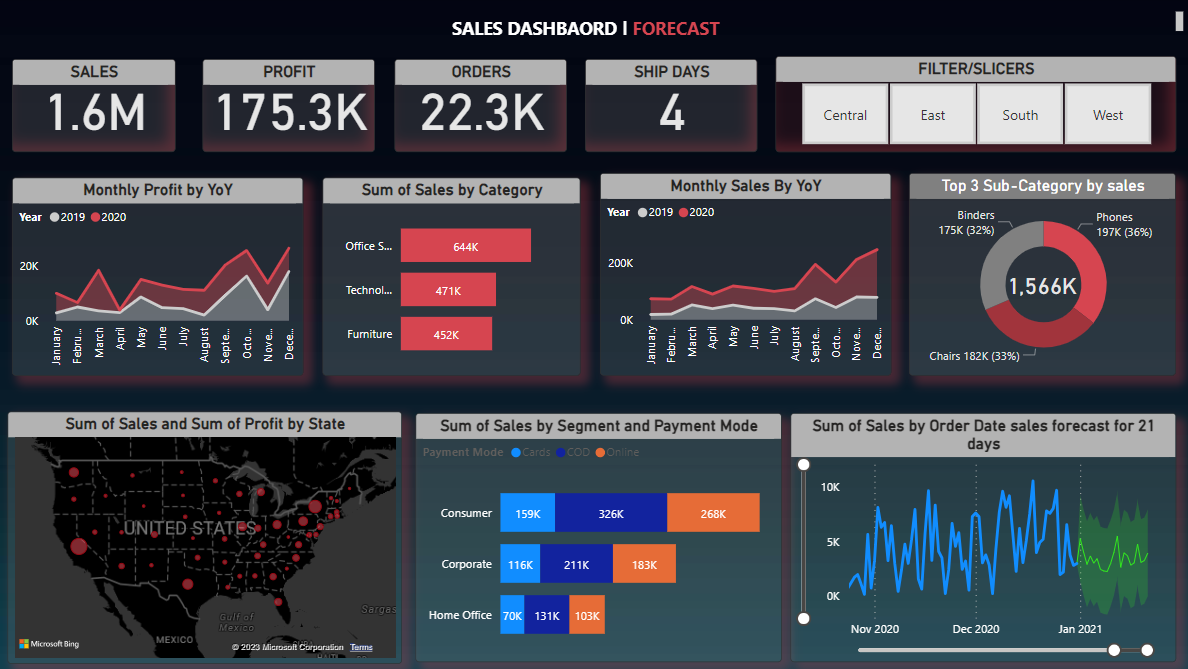

What the dashboard file says about the page in this screenshot:
{"tool":"powerbi","page":{"name":"Sales","canvas":[1280,720],"ordinal":0},"visuals":[{"type":"donutChart","title":"Top 3 Sub-Category by sales","fields":{"Category":["Sheet1.Sub-Category"],"Y":["Sum(Sheet1.Sales)"]},"box":[972.7,187.5,282.9,214.6],"z":0},{"type":"clusteredBarChart","fields":{"Category":["Sheet1.Category"],"Y":["Sum(Sheet1.Sales)"]},"box":[351.3,192.3,273.4,209.8],"z":1000},{"type":"stackedAreaChart","title":"Monthly Sales By YoY","fields":{"Y":["Sum(Sheet1.Sales)"],"Category":["Sheet1.Order Date.Variation.Date Hierarchy.Month","Sheet1.Order Date.Variation.Date Hierarchy.Day"],"Series":["Sheet1.Order Date.Variation.Date Hierarchy.Year"]},"box":[645.3,187.5,308.3,214.6],"z":2000},{"type":"stackedAreaChart","title":"Monthly Profit by YoY","fields":{"Category":["Sheet1.Order Date.Variation.Date Hierarchy.Month","Sheet1.Order Date.Variation.Date Hierarchy.Day"],"Series":["Sheet1.Order Date.Variation.Date Hierarchy.Year"],"Y":["Sum(Sheet1.Profit)"]},"box":[22.3,192.3,308.3,209.8],"z":3000},{"type":"map","fields":{"Category":["Sheet1.State"],"Size":["Sum(Sheet1.Sales)"]},"box":[17.5,440.3,418,267],"z":4000},{"type":"slicer","title":"FILTER/SLICERS","fields":{"Values":["Sheet1.Region"]},"box":[831.3,63.6,424.4,101.7],"z":5000},{"type":"card","title":"SALES","fields":{"Values":["Sum(Sheet1.Sales)"]},"box":[22.3,66.8,173.2,98.5],"z":6000},{"type":"card","title":"ORDERS","fields":{"Values":["Sum(Sheet1.Quantity)"]},"box":[427.5,66.8,182.8,98.5],"z":7000},{"type":"card","title":"PROFIT","fields":{"Values":["Sum(Sheet1.Profit)"]},"box":[224.1,66.8,182.8,98.5],"z":8000},{"type":"card","title":"SHIP DAYS","fields":{"Values":["Avg(Sheet1.AverageDelivery)"]},"box":[629.4,66.8,182.8,98.5],"z":9000},{"type":"textbox","box":[0,11.1,1268.3,35],"z":10000},{"type":"barChart","fields":{"Category":["Sheet1.Segment"],"Y":["Sum(Sheet1.Sales)"],"Series":["Sheet1.Payment Mode"]},"box":[449.8,441.9,387.8,263.8],"z":11000},{"type":"lineChart","title":"Sum of Sales by Order Date sales forecast for 21 days","fields":{"Y":["Sum(Sheet1.Sales)"],"Category":["Sheet1.Order Date"]},"box":[847.2,441.9,408.5,263.8],"z":12000},{"type":"card","fields":{"Values":["Sum(Sheet1.Sales)"]},"box":[1069.7,273.4,87.4,65.2],"z":13000}]}

Visuals, with their boxes in screenshot pixels (x1, y1, x2, y2), scaled from the page's 1280x720 canvas onto the 1188x669 screenshot:
"Top 3 Sub-Category by sales" donutChart: left=903, top=174, right=1165, bottom=374
clusteredBarChart - Sheet1.Category x Sum(Sheet1.Sales): left=326, top=179, right=580, bottom=374
"Monthly Sales By YoY" stackedAreaChart: left=599, top=174, right=885, bottom=374
"Monthly Profit by YoY" stackedAreaChart: left=21, top=179, right=307, bottom=374
map - Sheet1.State x Sum(Sheet1.Sales): left=16, top=409, right=404, bottom=657
"FILTER/SLICERS" slicer: left=772, top=59, right=1165, bottom=154
"SALES" card: left=21, top=62, right=181, bottom=154
"ORDERS" card: left=397, top=62, right=566, bottom=154
"PROFIT" card: left=208, top=62, right=378, bottom=154
"SHIP DAYS" card: left=584, top=62, right=754, bottom=154
textbox: left=0, top=10, right=1177, bottom=43
barChart - Sheet1.Segment x Sum(Sheet1.Sales): left=417, top=411, right=777, bottom=656
"Sum of Sales by Order Date sales forecast for 21 days" lineChart: left=786, top=411, right=1165, bottom=656
card - Sum(Sheet1.Sales): left=993, top=254, right=1074, bottom=315
